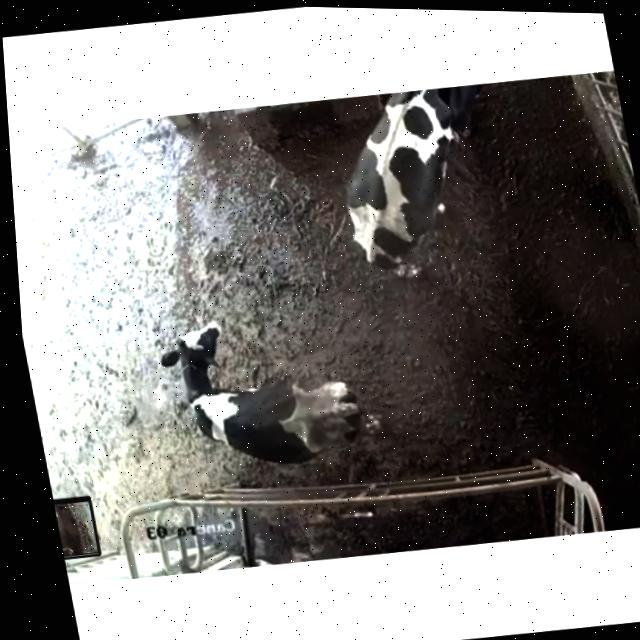ride: (299, 80, 514, 294)
